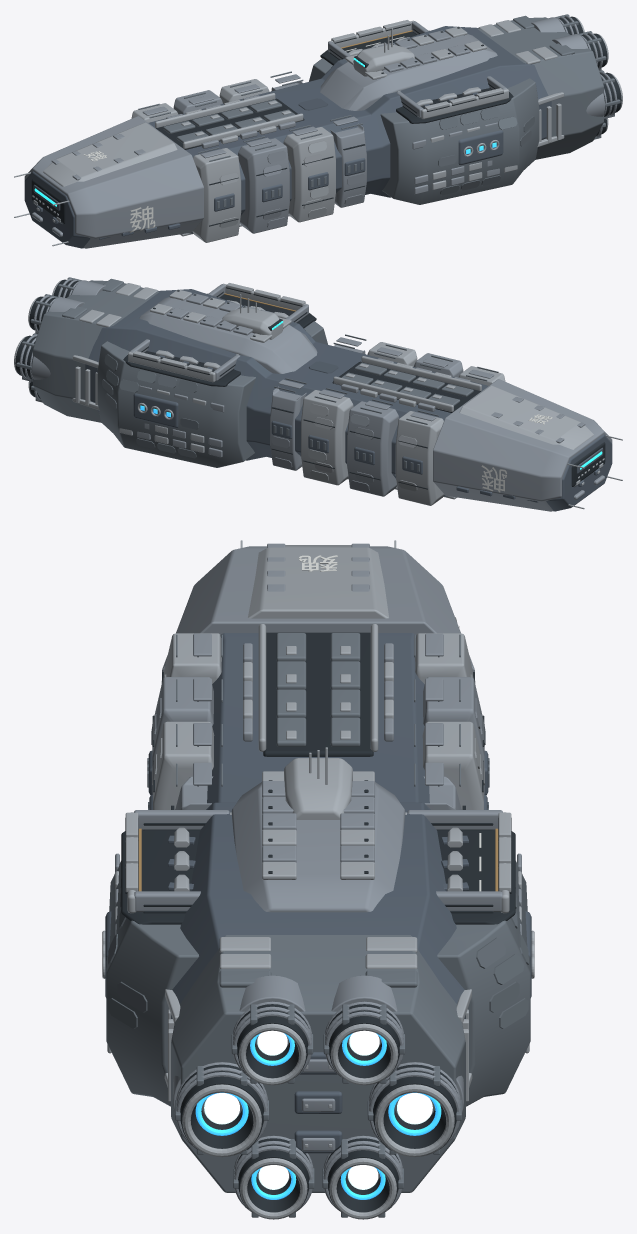
The model's file is wei-carrier.glb.
The picture shows the model from 3 angles, top to bottom: view 1: azimuth 30°, elevation 25°; view 2: azimuth 150°, elevation 25°; view 3: azimuth 270°, elevation 25°; orthographic projection. The views are drawn at different scales.
Visible parts, largest first — view 1: Continuous central pressure hull, Sculpted wedge bow, Armor wing root, Aft propulsion block, Aft raised longitudinal command housing, Wedge bow central dorsal plate, Segmented upper and lower flank armor.001, Segmented upper and lower flank armor.002, Segmented upper and lower flank armor, Segmented upper and lower flank armor.003, Stepped bridge, Aft lateral thruster housing (+15 smaller); view 2: Continuous central pressure hull, Sculpted wedge bow, Armor wing root.001, Aft propulsion block, Aft raised longitudinal command housing, Wedge bow central dorsal plate, Segmented upper and lower flank armor.005, Segmented upper and lower flank armor.006, Segmented upper and lower flank armor.004, Segmented upper and lower flank armor.007, Stepped bridge, Aft lateral thruster housing.001 (+15 smaller); view 3: Continuous central pressure hull, Aft propulsion block, Aft raised longitudinal command housing, Sculpted wedge bow, Armor wing root, Armor wing root.001, Wedge bow central dorsal plate, Long central launch-cell recess, Stepped bridge, Recessed hangar tray, Recessed hangar tray.001, Segmented upper and lower flank armor.006 (+27 smaller).
Boxes of the visible parts, x1,y1,x2,y2 form: Continuous central pressure hull: (24, 26, 551, 248); Sculpted wedge bow: (24, 116, 203, 248); Armor wing root: (380, 78, 539, 204); Aft propulsion block: (478, 17, 603, 159); Aft raised longitudinal command housing: (320, 32, 497, 110); Wedge bow central dorsal plate: (43, 122, 177, 186); Segmented upper and lower flank armor.001: (237, 138, 289, 233); Segmented upper and lower flank armor.002: (283, 127, 335, 222); Segmented upper and lower flank armor: (192, 148, 241, 242); Segmented upper and lower flank armor.003: (330, 123, 366, 207); Stepped bridge: (353, 44, 415, 76); Aft lateral thruster housing: (458, 130, 503, 164); Continuous central pressure hull: (85, 289, 612, 511); Sculpted wedge bow: (433, 379, 612, 511); Armor wing root.001: (97, 341, 255, 467); Aft propulsion block: (33, 280, 158, 422); Aft raised longitudinal command housing: (139, 295, 317, 373); Wedge bow central dorsal plate: (459, 385, 593, 449); Segmented upper and lower flank armor.005: (347, 401, 399, 496); Segmented upper and lower flank armor.006: (301, 390, 353, 485); Segmented upper and lower flank armor.004: (395, 411, 444, 505); Segmented upper and lower flank armor.007: (270, 386, 306, 470); Stepped bridge: (221, 307, 283, 339); Aft lateral thruster housing.001: (133, 393, 178, 427); Continuous central pressure hull: (171, 633, 465, 1018); Aft propulsion block: (171, 935, 465, 1192); Aft raised longitudinal command housing: (231, 782, 405, 912); Sculpted wedge bow: (162, 546, 474, 671); Armor wing root: (106, 861, 198, 1106); Armor wing root.001: (437, 861, 530, 1106); Wedge bow central dorsal plate: (248, 545, 388, 618); Long central launch-cell recess: (263, 632, 373, 756); Stepped bridge: (284, 758, 352, 819); Recessed hangar tray: (121, 830, 199, 924); Recessed hangar tray.001: (437, 830, 515, 924); Segmented upper and lower flank armor.006: (422, 721, 483, 809).
Size of the model in its own units: 20.39 by 5.25 by 6.86.
